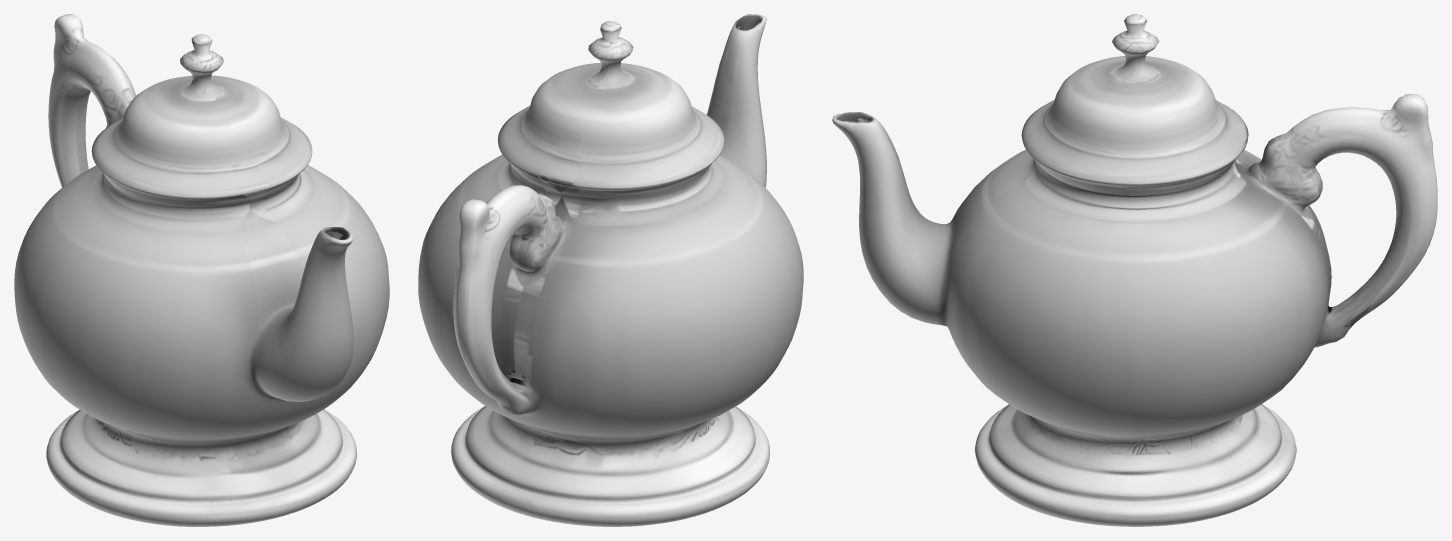
The model's file is ai_test_teapot_with_reflective_surface.glb.
The picture shows the model from 3 angles, left to right: view 1: azimuth 30°, elevation 25°; view 2: azimuth 150°, elevation 25°; view 3: azimuth 270°, elevation 25°; orthographic projection. The views are drawn at different scales.
Parts seen in each view (by area): view 1: Object_2; view 2: Object_2; view 3: Object_2.
Part boxes in pixels (left/top/right/bottom): Object_2: left=14, top=14, right=389, bottom=526; Object_2: left=418, top=14, right=803, bottom=526; Object_2: left=832, top=14, right=1437, bottom=526.
Size of the model in its own units: 1.07 by 1.36 by 1.66.
Materials: 1 (1 with a texture image).
